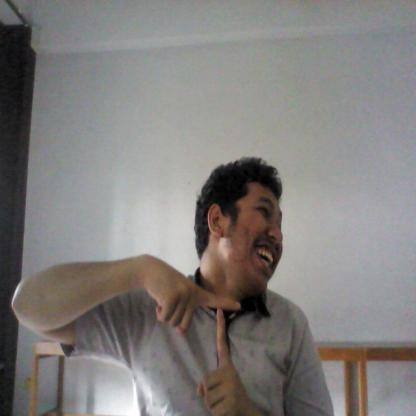T: (143, 252, 243, 414)
